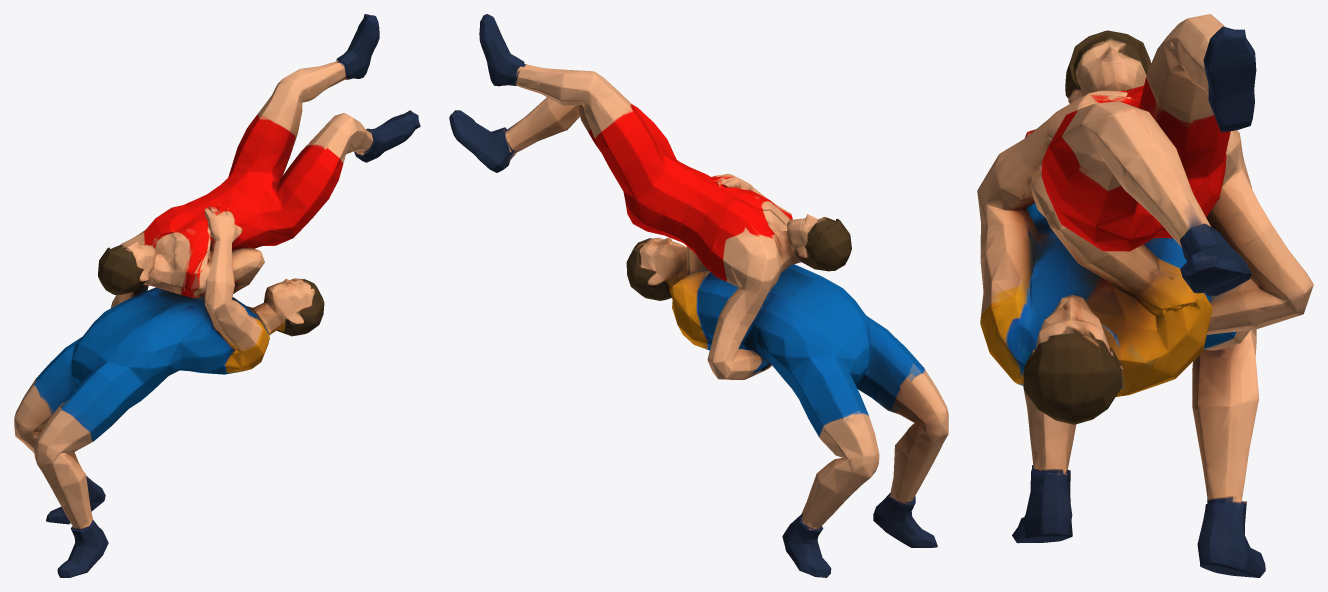
The model's file is luchadores.glb.
The picture shows the model from 3 angles, left to right: view 1: azimuth 30°, elevation 25°; view 2: azimuth 150°, elevation 25°; view 3: azimuth 270°, elevation 25°; orthographic projection. The views are drawn at different scales.
Visible parts, largest first — view 1: node_0; view 2: node_0; view 3: node_0.
Boxes of the visible parts, x1,y1,x2,y2 form: node_0: (14, 14, 420, 577); node_0: (449, 14, 948, 577); node_0: (977, 14, 1313, 577).
Size of the model in its own units: 0.8686 by 0.8682 by 0.3167.
1 material, 1 textured.
